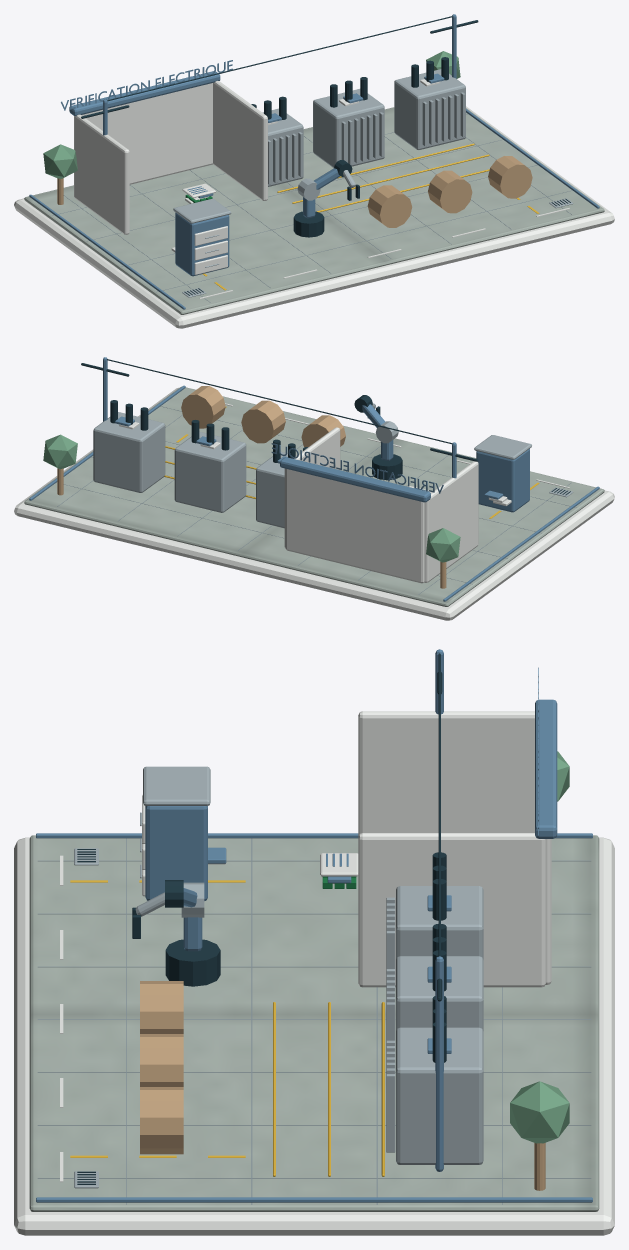
File: vre.glb
3 views of the same model, one above another, from view 1: azimuth 30°, elevation 25°; view 2: azimuth 150°, elevation 25°; view 3: azimuth 270°, elevation 25° (orthographic). The views are drawn at different scales.
Visible parts, largest first — view 1: Activity ground, StaticWorkshop_0, StaticWorkshop_2, StaticWorkshop_1, StaticWorkshop_6, StaticWorkshop_3, StaticWorkshop_4, StaticWorkshop_7, StaticWorkshop_5, Probe mounting; view 2: Activity ground, StaticWorkshop_0, StaticWorkshop_2, StaticWorkshop_1, StaticWorkshop_6, StaticWorkshop_3, StaticWorkshop_7, StaticWorkshop_4, Probe mounting, Probe joint; view 3: Activity ground, StaticWorkshop_0, StaticWorkshop_2, StaticWorkshop_1, StaticWorkshop_6, StaticWorkshop_4, StaticWorkshop_3, StaticWorkshop_7, StaticWorkshop_5, Probe mounting, Document bundle.
Boxes of the visible parts, left/top/right/bottom form: Activity ground: left=24, top=107, right=604, bottom=314; StaticWorkshop_0: left=14, top=81, right=614, bottom=328; StaticWorkshop_2: left=173, top=69, right=573, bottom=297; StaticWorkshop_1: left=29, top=14, right=599, bottom=309; StaticWorkshop_6: left=57, top=156, right=532, bottom=227; StaticWorkshop_3: left=81, top=16, right=570, bottom=295; StaticWorkshop_4: left=52, top=113, right=572, bottom=302; StaticWorkshop_7: left=43, top=51, right=460, bottom=178; StaticWorkshop_5: left=202, top=143, right=539, bottom=290; Probe mounting: left=293, top=211, right=324, bottom=237; Activity ground: left=24, top=386, right=604, bottom=606; StaticWorkshop_0: left=14, top=387, right=614, bottom=620; StaticWorkshop_2: left=93, top=402, right=573, bottom=528; StaticWorkshop_1: left=29, top=357, right=599, bottom=601; StaticWorkshop_6: left=57, top=386, right=446, bottom=588; StaticWorkshop_3: left=81, top=359, right=570, bottom=495; StaticWorkshop_7: left=43, top=434, right=460, bottom=562; StaticWorkshop_4: left=52, top=405, right=576, bottom=594; Probe mounting: left=372, top=454, right=402, bottom=480; Probe joint: left=375, top=421, right=398, bottom=443; Activity ground: left=29, top=835, right=599, bottom=1211; StaticWorkshop_0: left=14, top=711, right=614, bottom=1235; StaticWorkshop_2: left=74, top=766, right=483, bottom=1188; StaticWorkshop_1: left=36, top=649, right=592, bottom=1202; StaticWorkshop_6: left=140, top=981, right=545, bottom=1190; StaticWorkshop_4: left=37, top=838, right=591, bottom=1204; StaticWorkshop_3: left=77, top=653, right=446, bottom=1184; StaticWorkshop_7: left=510, top=751, right=569, bottom=1143; StaticWorkshop_5: left=70, top=880, right=384, bottom=1176; Probe mounting: left=165, top=939, right=220, bottom=986; Document bundle: left=320, top=853, right=358, bottom=876.
Bounding box in the file's own units: 7.3 × 2.15 × 4.8.
Materials: 15 (1 with a texture image).
